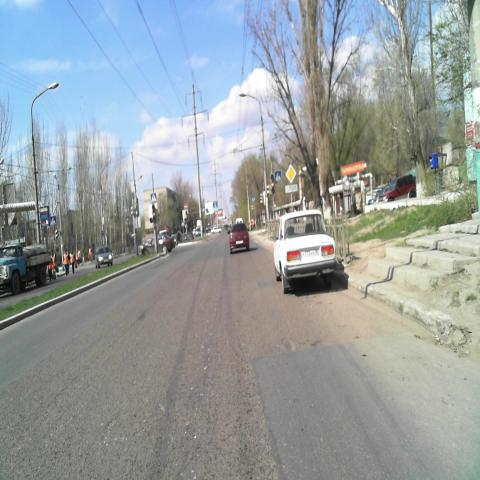6_16: (286, 185, 298, 194)
